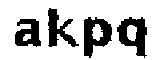a: (12, 17, 44, 48)
k: (47, 7, 79, 51)
p: (81, 15, 114, 60)
q: (116, 14, 153, 60)
